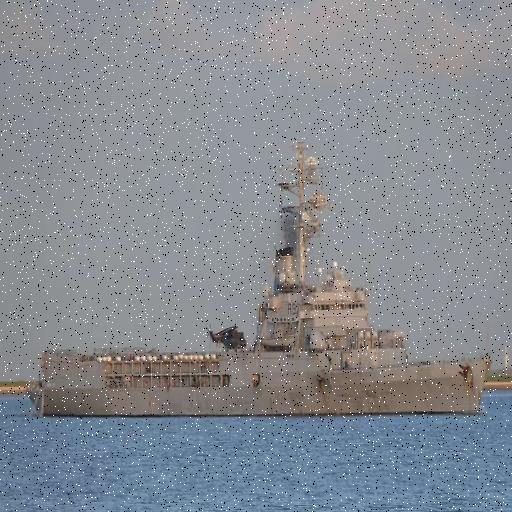Portanaves: (25, 140, 495, 418)
